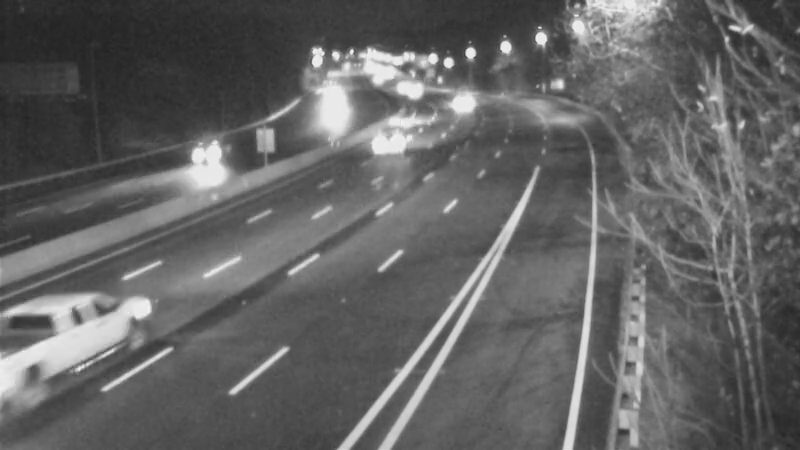vehicle: (15, 292, 125, 402), (166, 116, 246, 196), (383, 62, 433, 112), (439, 72, 489, 122), (378, 97, 428, 147), (362, 118, 412, 168), (296, 84, 346, 134)
